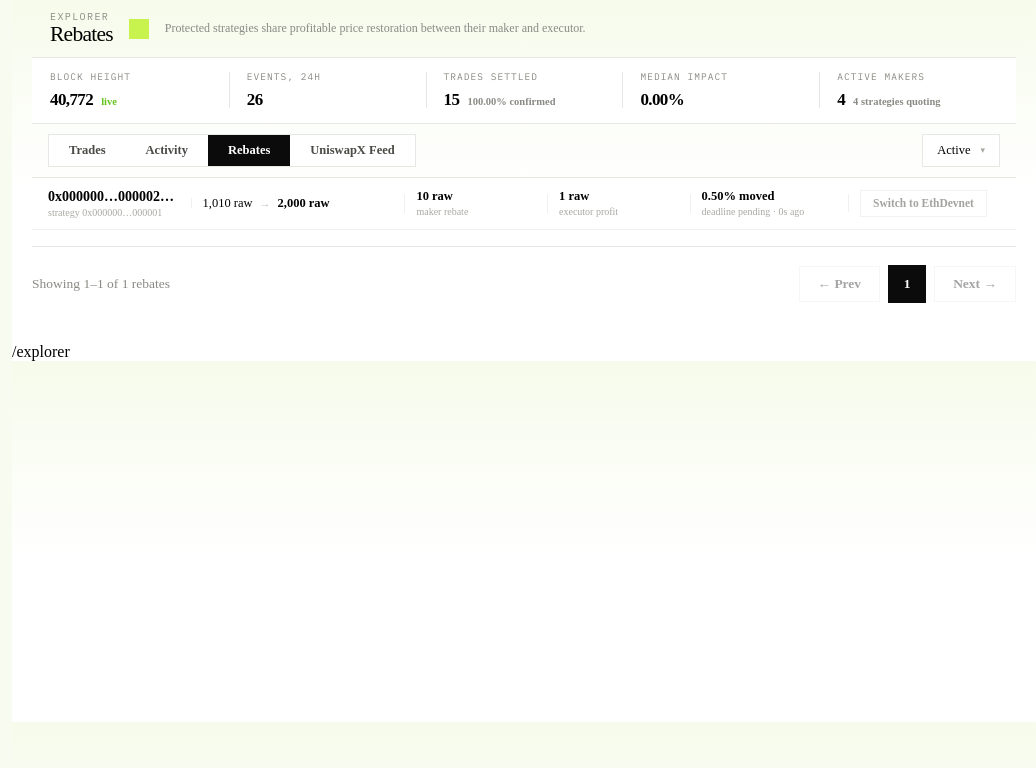
Test: Explorer live lists › opens the first trade that accrued a rebate
Click the link with aria-label "View originating trade first-trade": (524, 204) [32,178,1016,230]
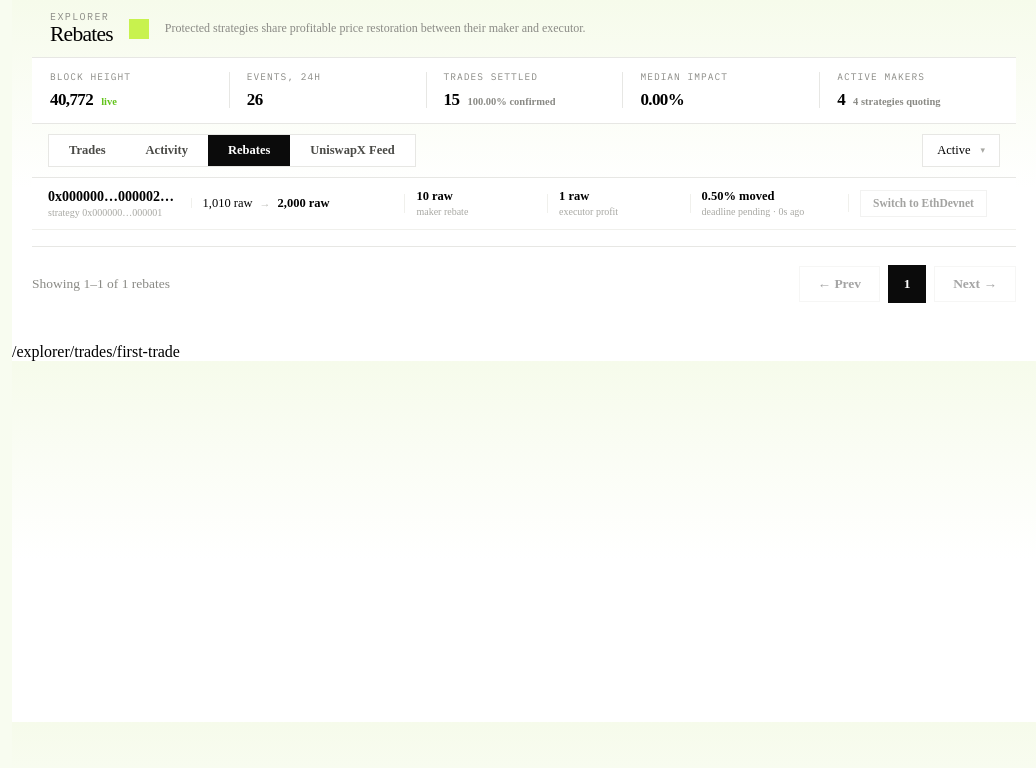
Now the text with test id "location-path" reads "/explorer/trades/first-trade", box [12,343,180,360]
